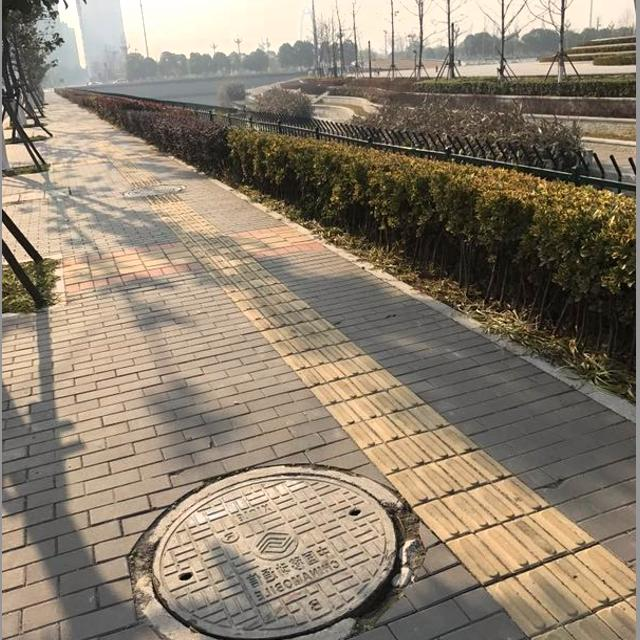circle: (125, 464, 424, 640)
